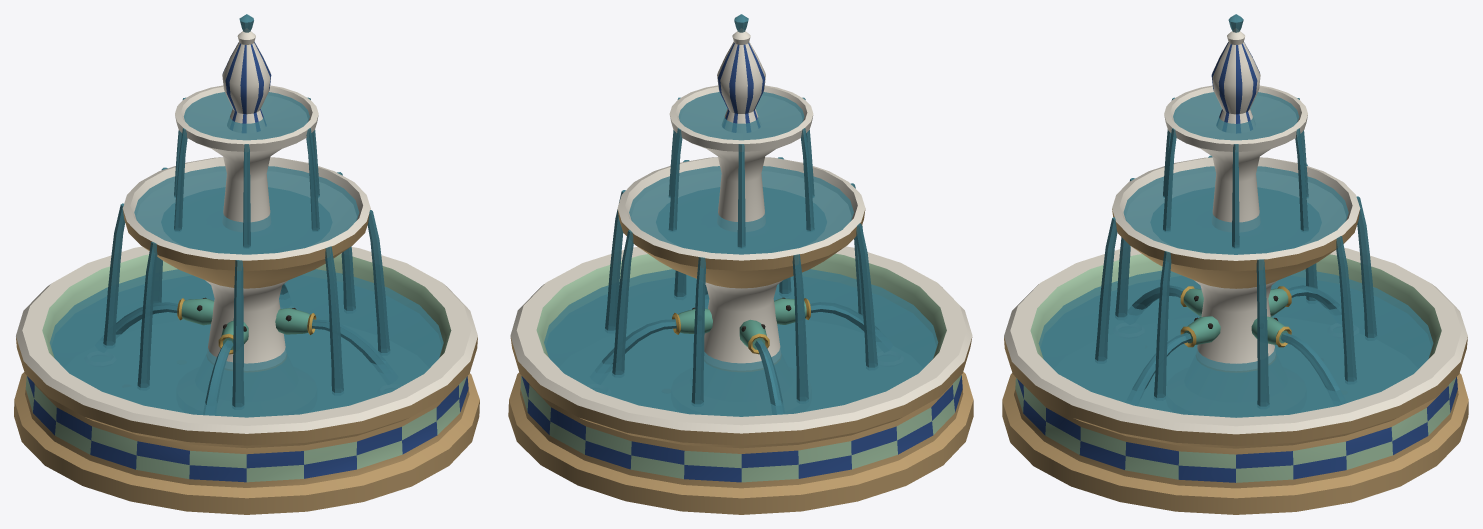
File: deco_fountain.fbx
3 views of the same model, side by side, from view 1: azimuth 30°, elevation 25°; view 2: azimuth 150°, elevation 25°; view 3: azimuth 270°, elevation 25° (orthographic).
Parts seen in each view (by area): view 1: Fountain_Water, Fountain_Basin, Fountain_Tiers, Fountain_Spouts; view 2: Fountain_Water, Fountain_Basin, Fountain_Tiers, Fountain_Spouts; view 3: Fountain_Water, Fountain_Basin, Fountain_Tiers, Fountain_Spouts.
Part boxes in pixels (left/top/right/bottom): Fountain_Water: left=49, top=14, right=443, bottom=417; Fountain_Basin: left=14, top=246, right=479, bottom=514; Fountain_Tiers: left=122, top=28, right=370, bottom=371; Fountain_Spouts: left=177, top=297, right=316, bottom=354; Fountain_Water: left=544, top=14, right=938, bottom=416; Fountain_Basin: left=508, top=246, right=973, bottom=514; Fountain_Tiers: left=617, top=28, right=865, bottom=371; Fountain_Spouts: left=672, top=297, right=810, bottom=354; Fountain_Water: left=1038, top=14, right=1433, bottom=417; Fountain_Basin: left=1002, top=246, right=1468, bottom=514; Fountain_Tiers: left=1112, top=28, right=1360, bottom=372; Fountain_Spouts: left=1180, top=286, right=1291, bottom=347.
Size of the model in its own units: 304 by 290 by 304.
